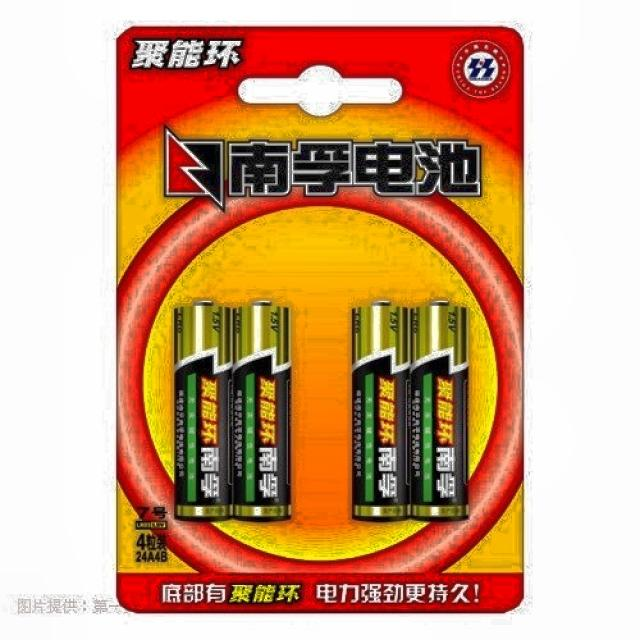Non-Valuable Waste - Batteries: (409, 301, 469, 521), (352, 301, 410, 521), (234, 302, 291, 521), (175, 304, 231, 519)
